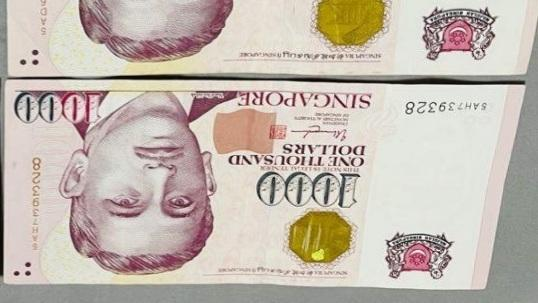1000SingaporeDollar: (6, 86, 486, 283)
